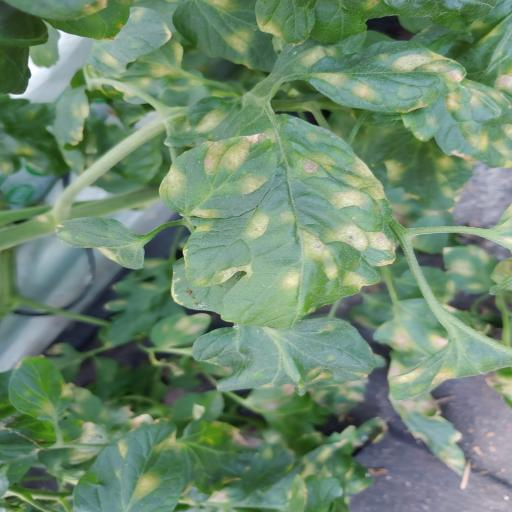Leaf Mold: (149, 113, 397, 331), (188, 316, 386, 398), (295, 39, 469, 112), (66, 419, 192, 512), (3, 354, 74, 424)
